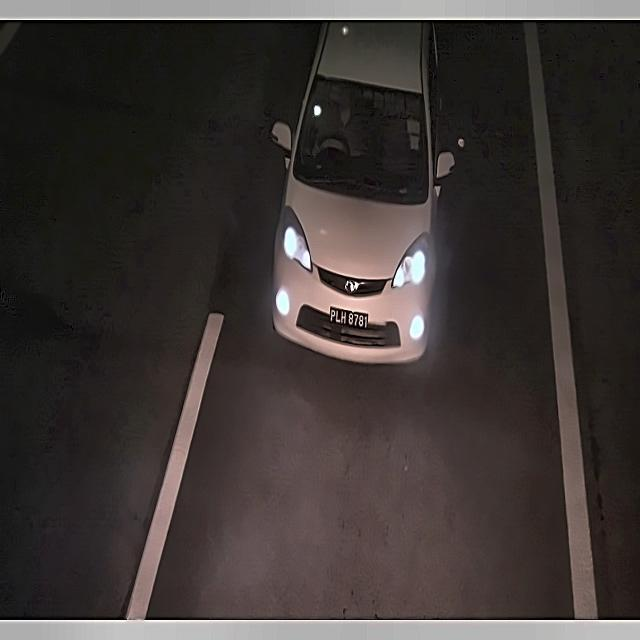car: (321, 299, 371, 333)
